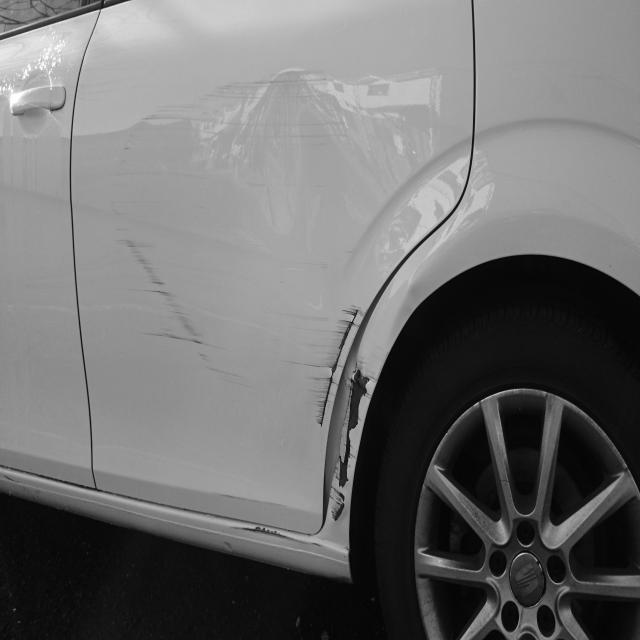dent: (302, 241, 447, 564)
misalignment: (323, 258, 404, 523)
scratch: (99, 70, 389, 554)
